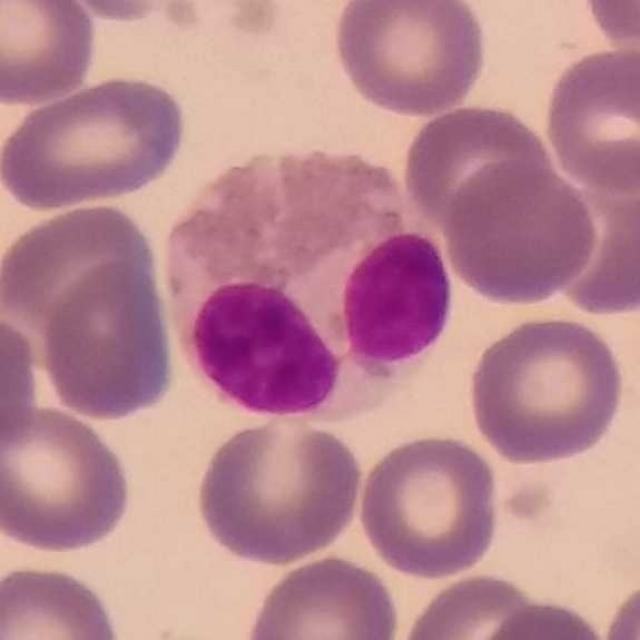Eosinophil: (158, 142, 454, 428)
RBC: (190, 411, 368, 566), (0, 71, 191, 211), (464, 312, 629, 468), (440, 156, 602, 308), (36, 256, 180, 425), (0, 200, 165, 340), (354, 429, 504, 582), (399, 99, 556, 236), (0, 401, 137, 555), (328, 0, 491, 119), (540, 42, 640, 195), (242, 551, 404, 640), (556, 175, 640, 318), (396, 569, 557, 640), (0, 0, 101, 107), (0, 560, 126, 640), (0, 309, 43, 464), (465, 597, 616, 640), (579, 0, 640, 56), (597, 572, 640, 640)
